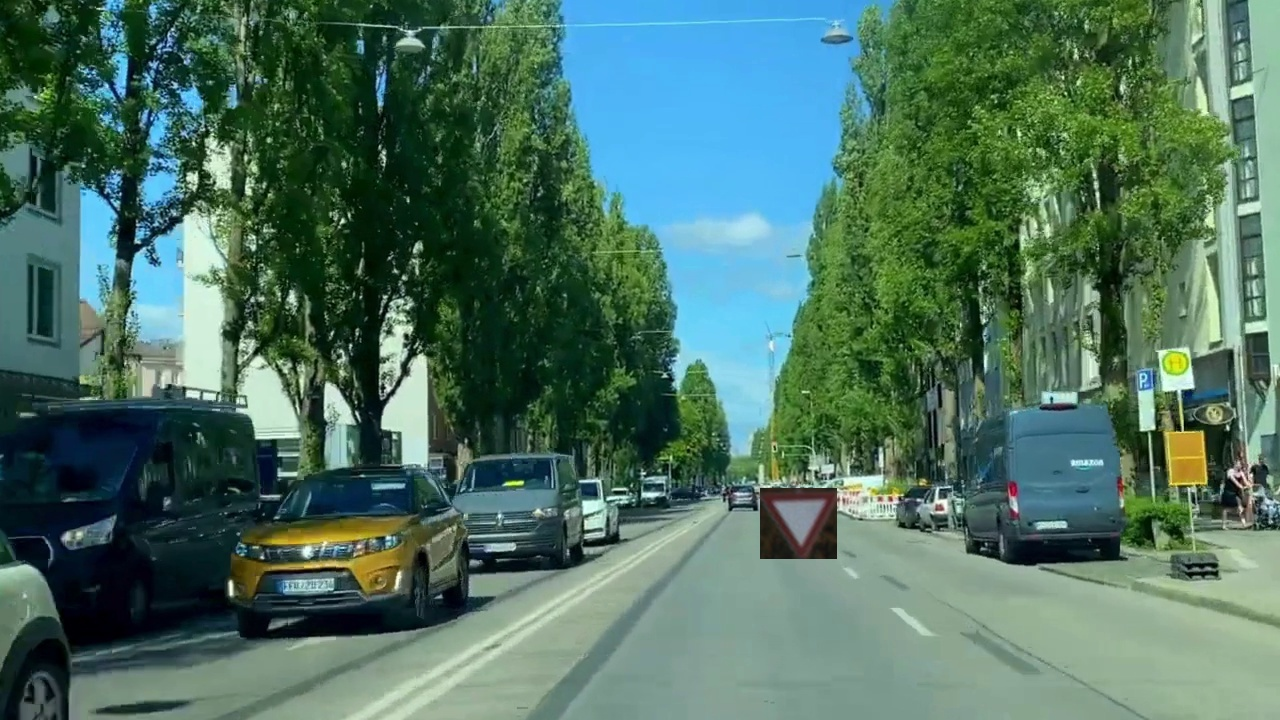Yield: (760, 488, 837, 559)
